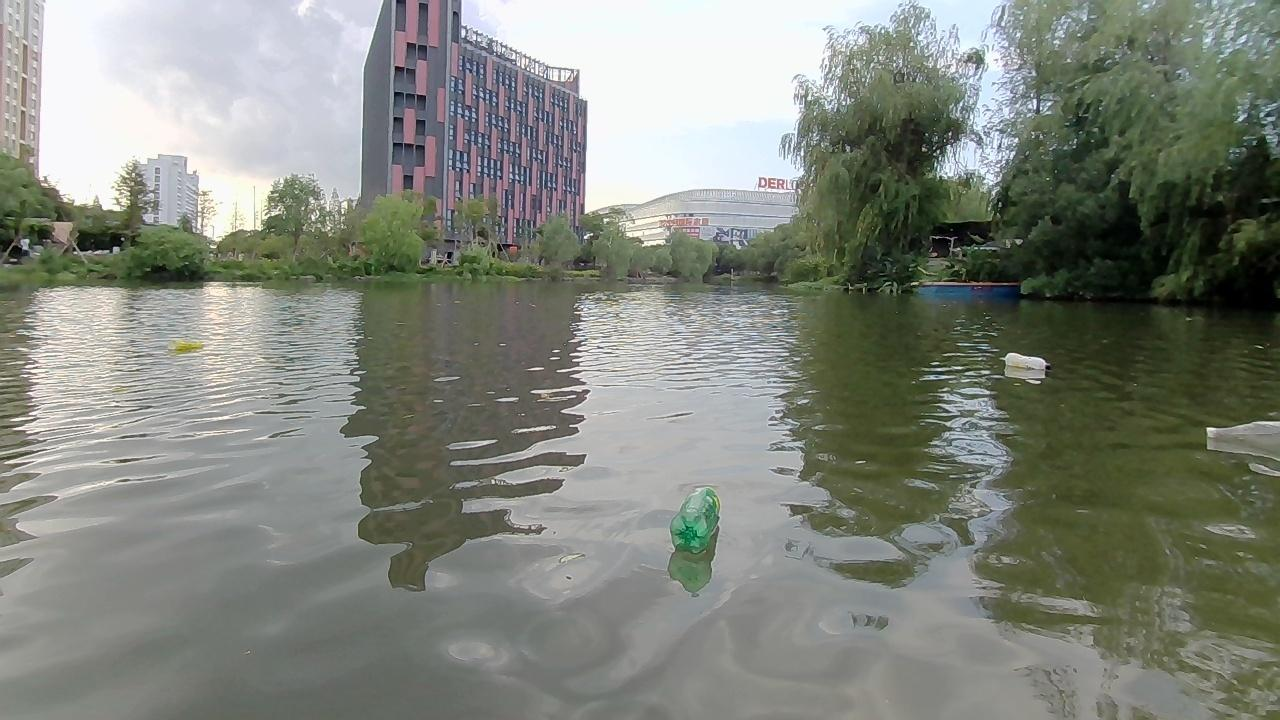bottle: (668, 483, 724, 547), (996, 346, 1048, 377), (159, 334, 207, 351)
